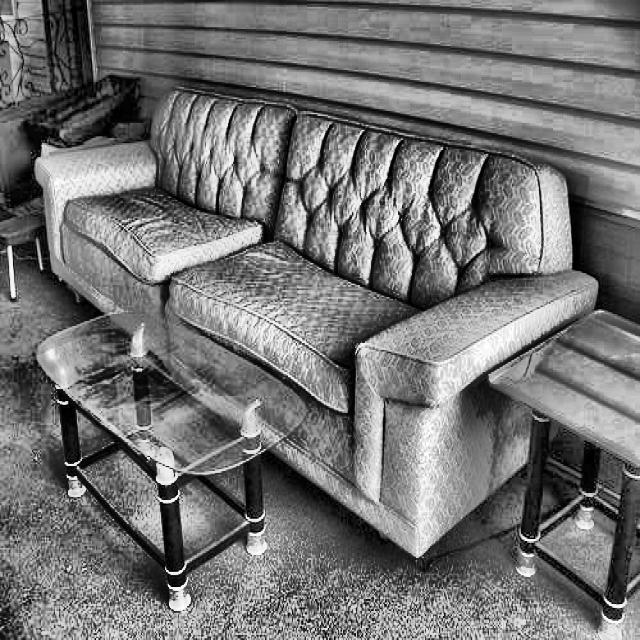sofa: (36, 96, 596, 561)
